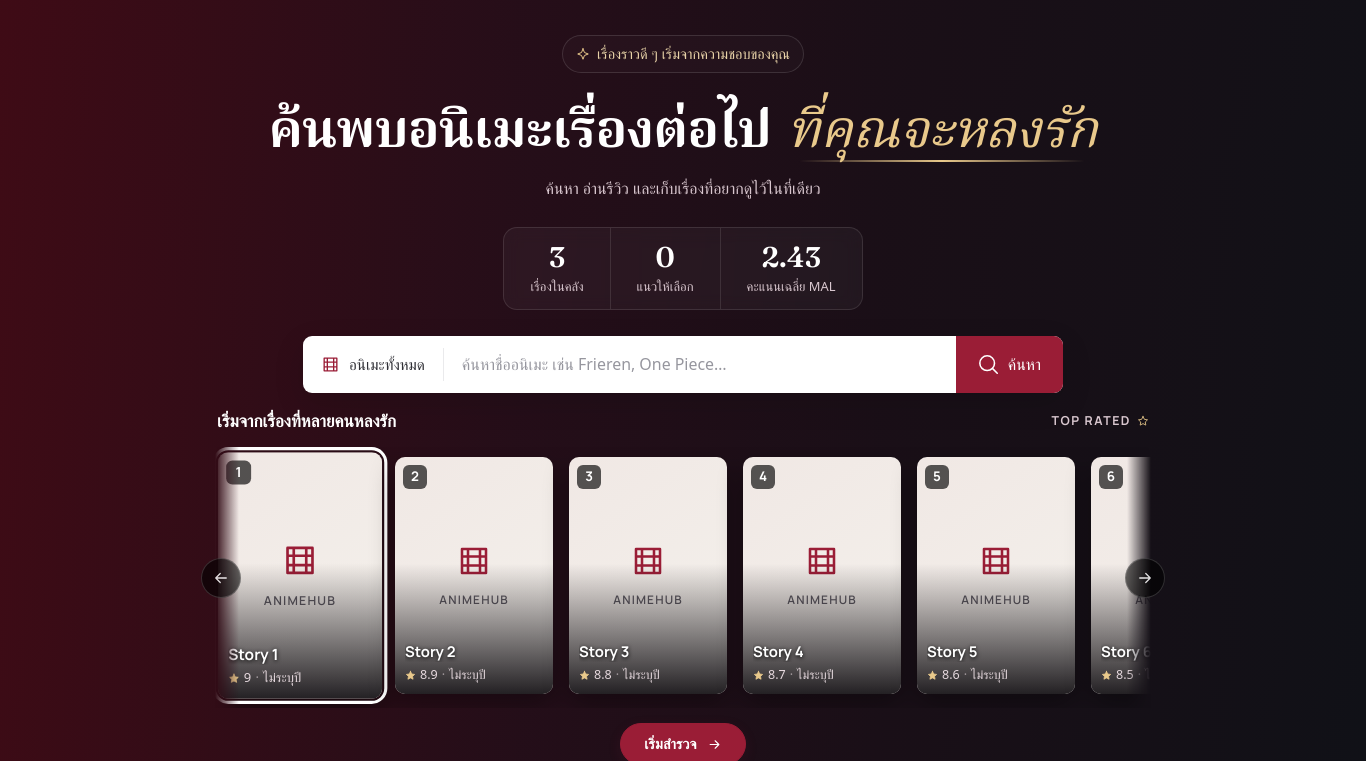
Test: home previews eight cards and filters search results across the complete catalog
The width and height of the screenshot is (1366, 761).
Step 1. Type "Story 12" into the field named "ค้นหาอนิเมะจากหน้าแรก" → (700, 365), box [444, 336, 956, 393]
(page scrolled)
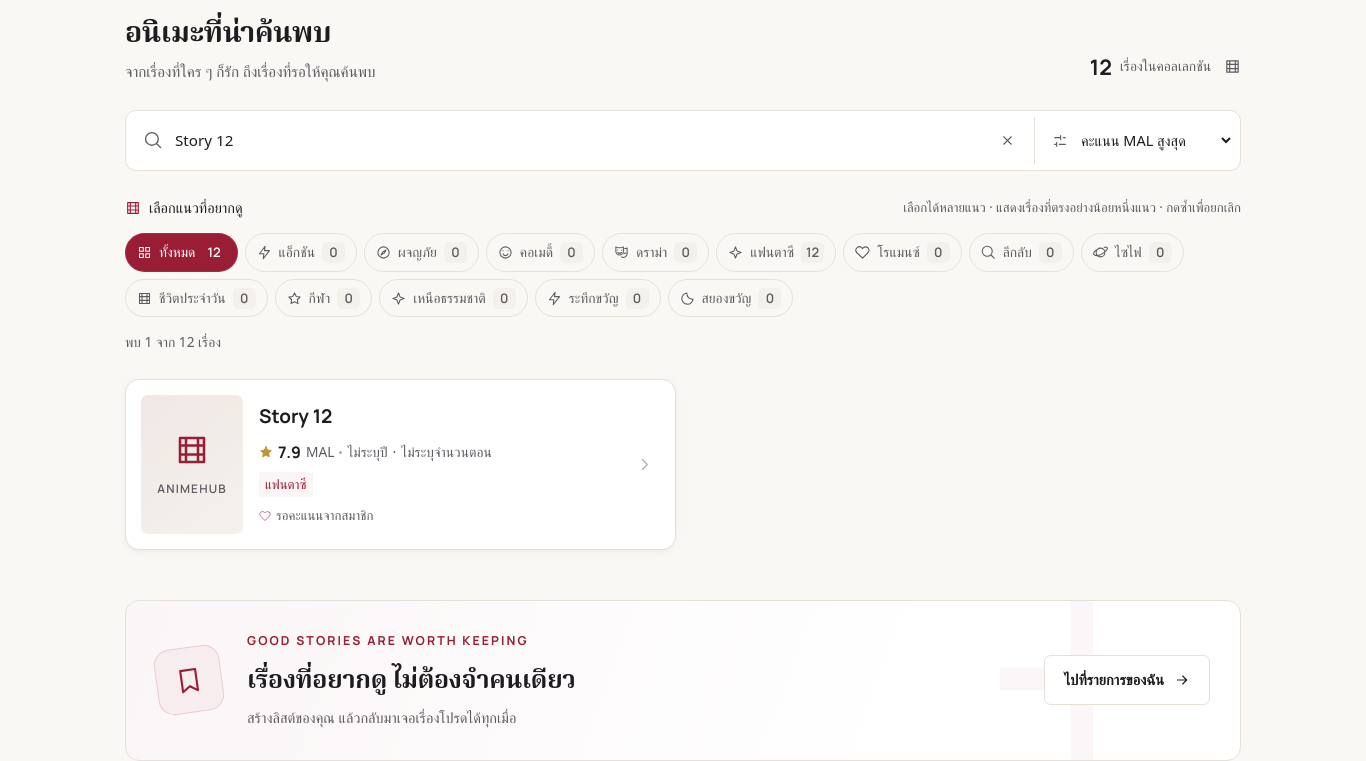
Now the number of links with class "anime-card" is 1, box [125, 379, 676, 550]
Now the element with class "anime-grid" shows "Story 12", box [125, 379, 676, 550]
